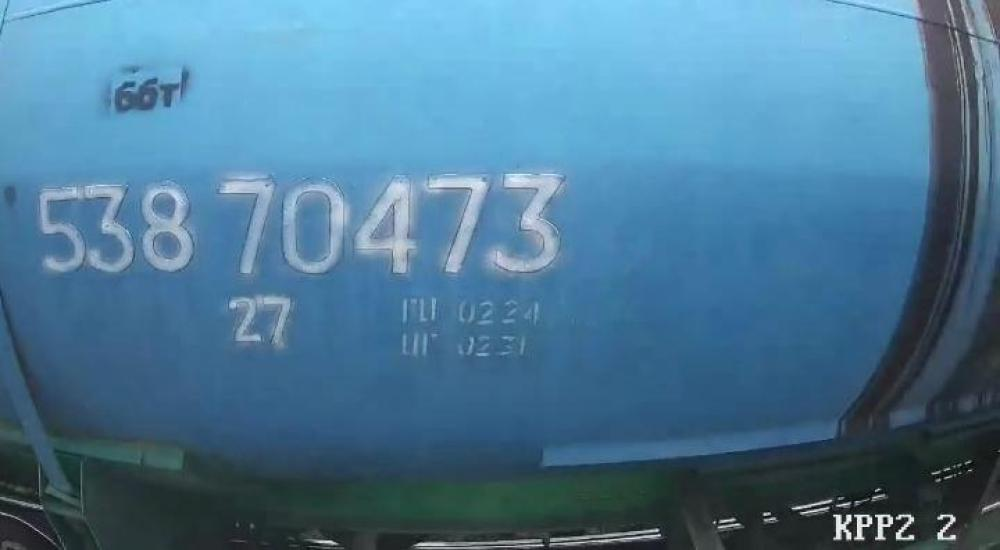Wagon-number: (34, 167, 572, 279)
